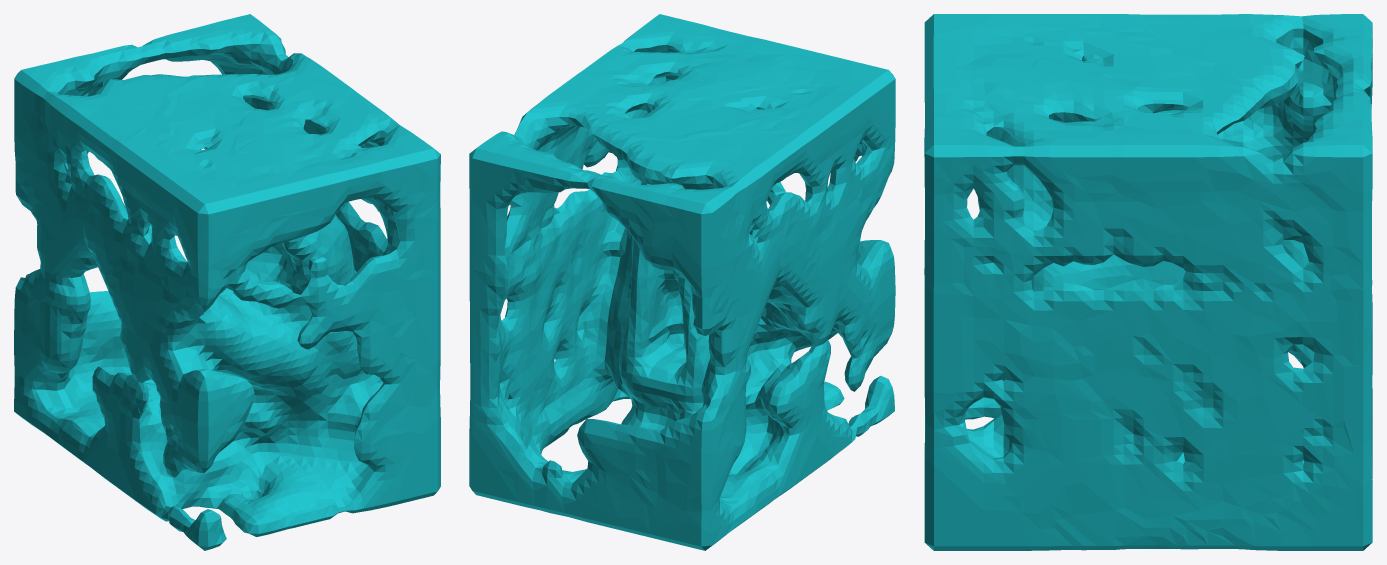
3 views of the same model, side by side, from view 1: azimuth 30°, elevation 25°; view 2: azimuth 150°, elevation 25°; view 3: azimuth 270°, elevation 25° (orthographic). The views are drawn at different scales.
Parts seen in each view (by area): view 1: Liquid_Domain; view 2: Liquid_Domain; view 3: Liquid_Domain.
Boxes of the visible parts, x1,y1,x2,y2 form: Liquid_Domain: [14, 14, 440, 550]; Liquid_Domain: [469, 14, 895, 550]; Liquid_Domain: [924, 14, 1372, 550].
Size of the model in its own units: 79.15 by 108 by 108.
